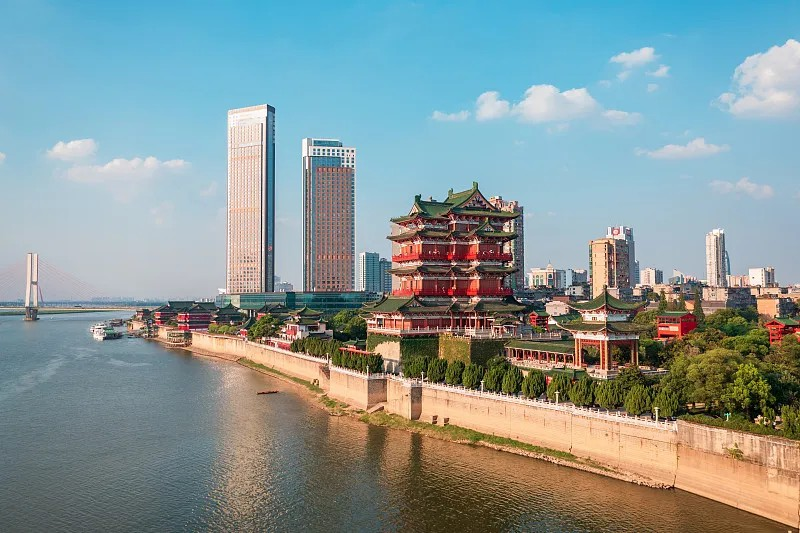Teng: (358, 182, 529, 332)
